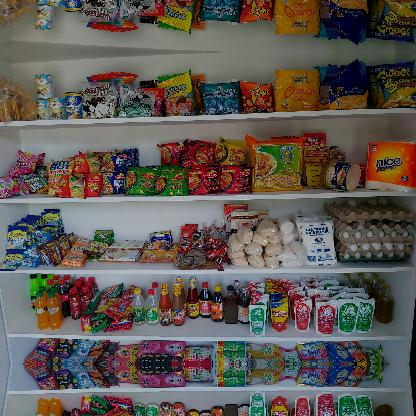Lady-s-Choice: (320, 158, 360, 190)
